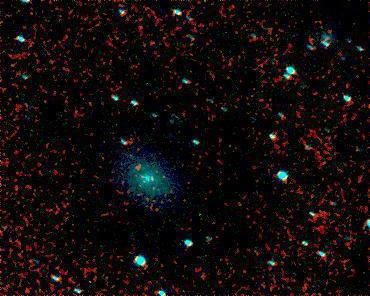star: (125, 154, 155, 184)
